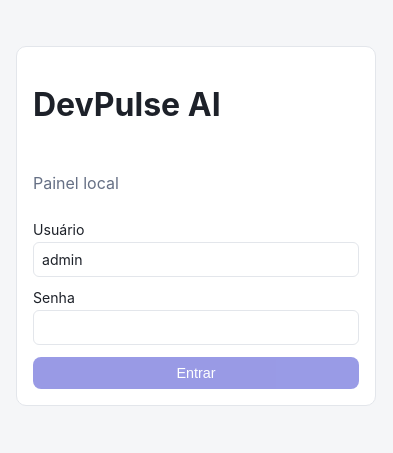
Test: Login › shows the server error message
Type "errada" into the password field labelled "Senha". click: [196, 327]
box: [33, 310, 359, 345]
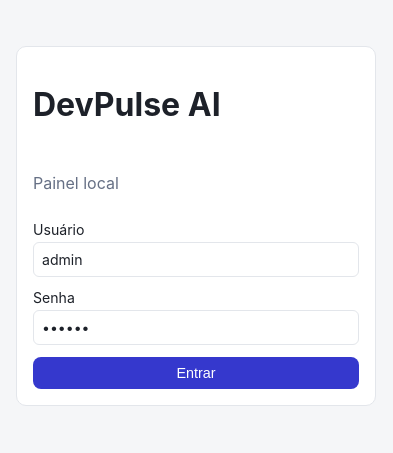
Click the button "Entrar". click: [196, 373]
box: [33, 357, 359, 389]
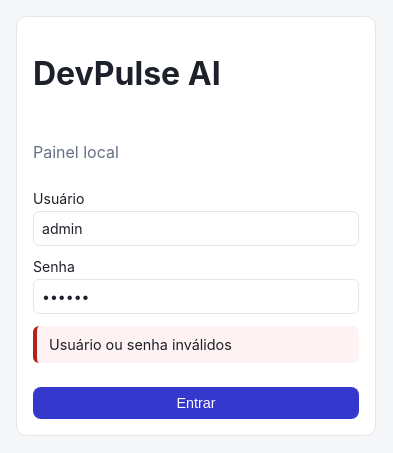
Check: the message reads "Usuário ou senha inválidos", box [49, 336, 232, 353]
